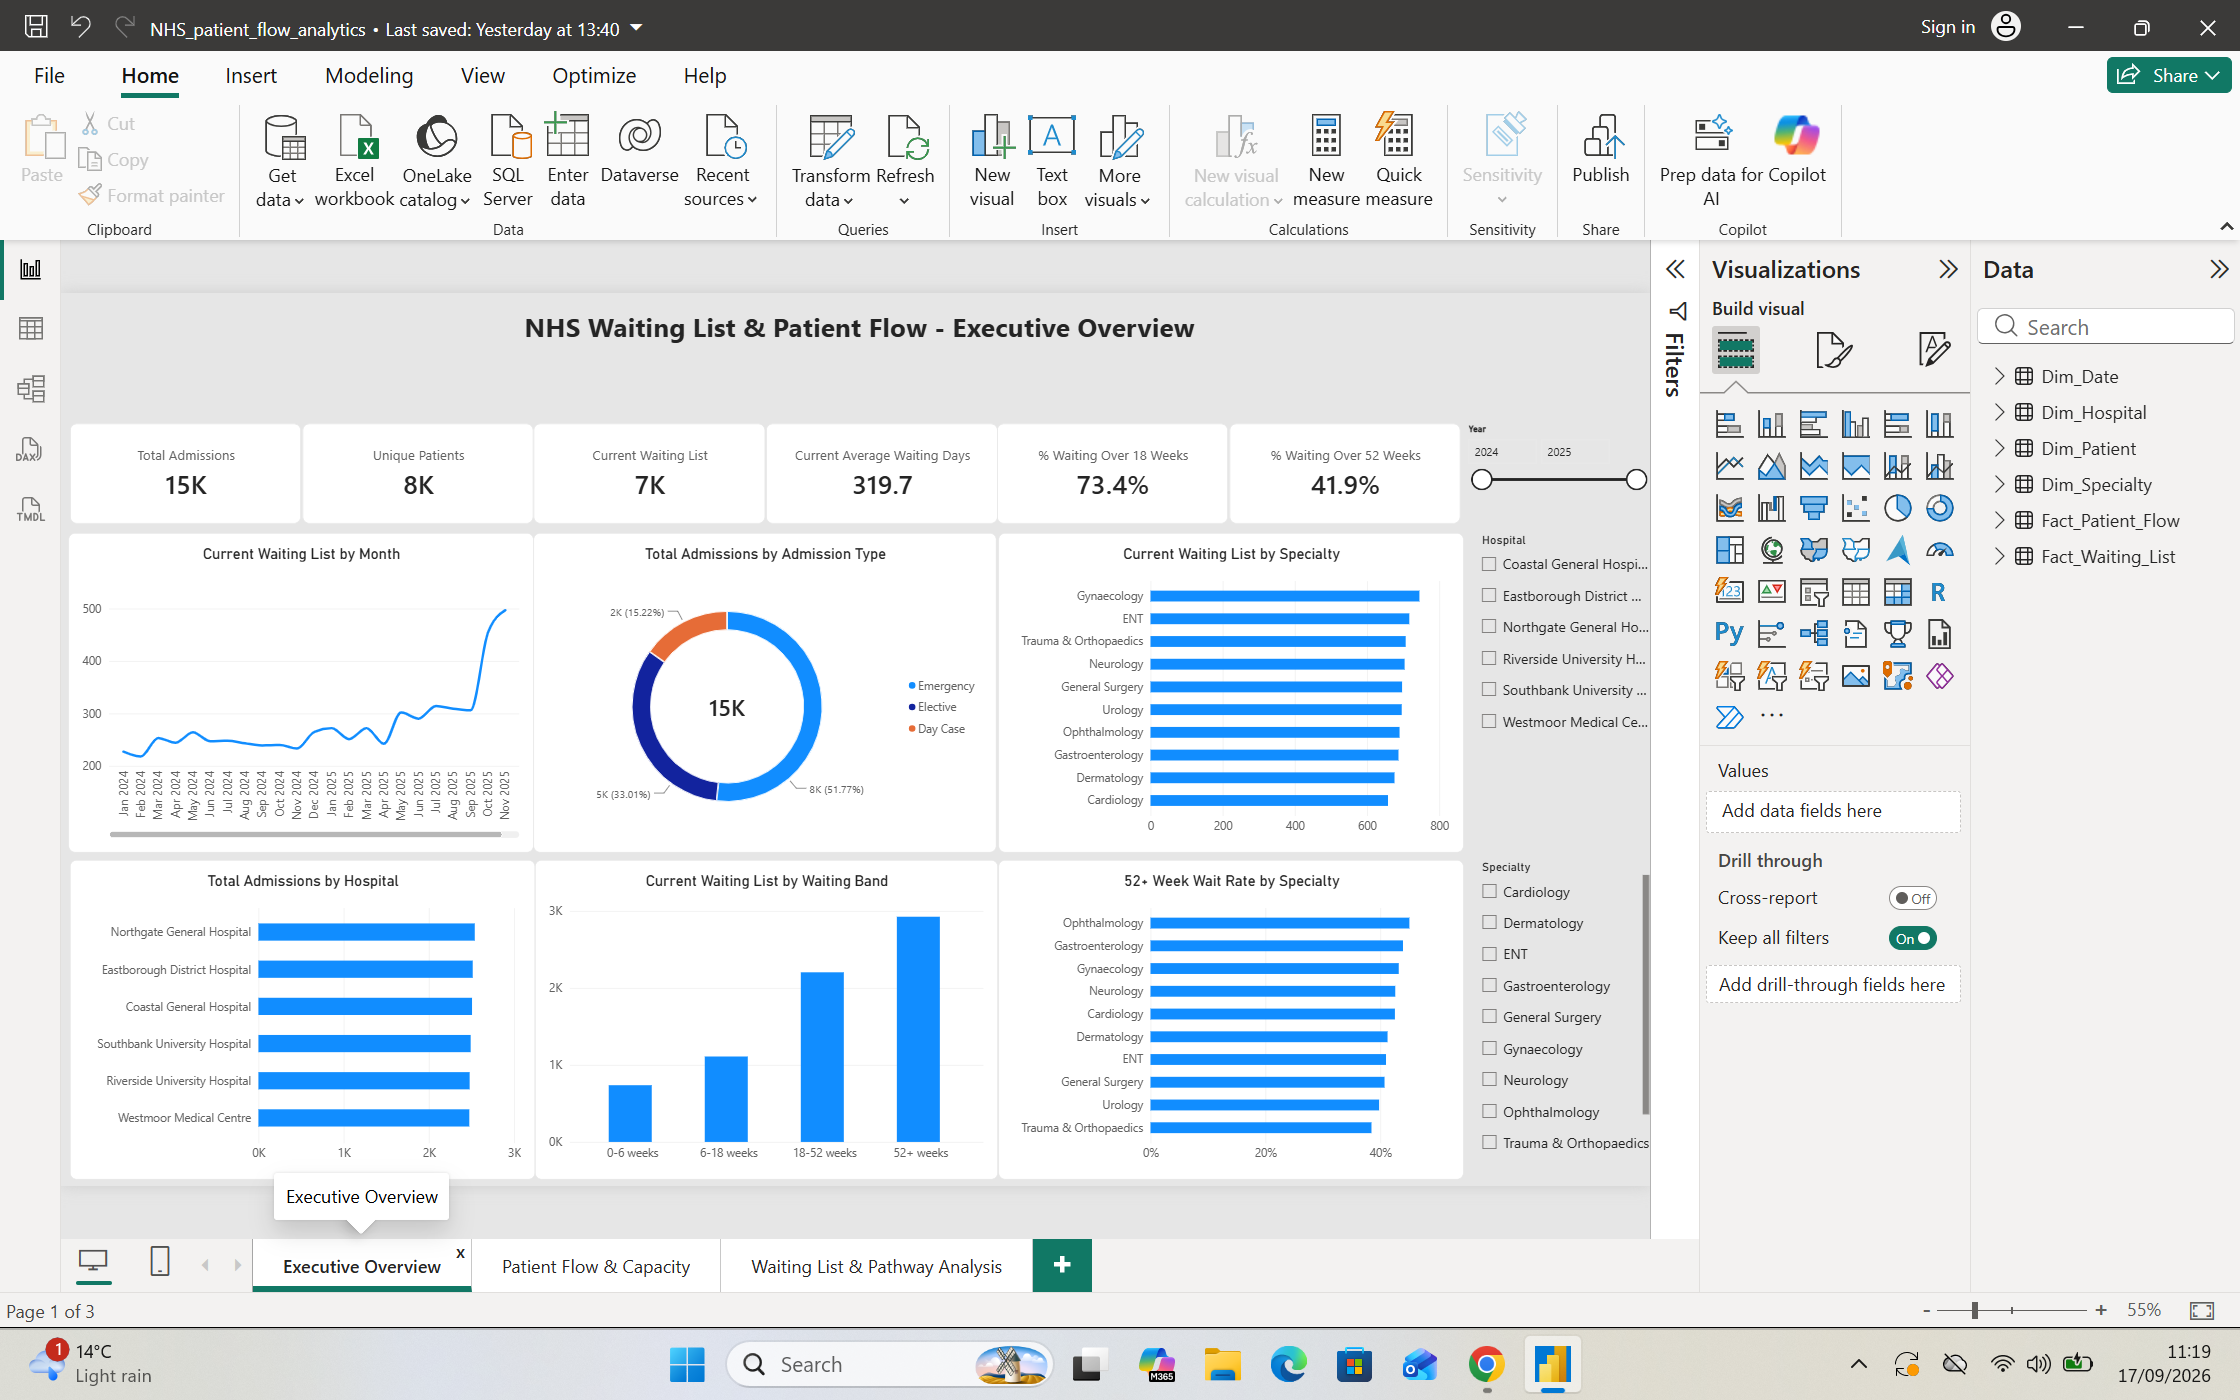

This screenshot's page, from the dashboard's own definition file:
{"tool":"powerbi","page":{"name":"Executive Overview","canvas":[1920,1080],"ordinal":0},"visuals":[{"type":"cardVisual","fields":{"Data":["Fact_Patient_Flow.Total Admissions"]},"box":[10.9,157.7,279.1,121.4],"z":0},{"type":"cardVisual","fields":{"Data":["Fact_Patient_Flow.Unique Patients"]},"box":[291.8,157.7,279.1,121.4],"z":1000},{"type":"cardVisual","fields":{"Data":["Fact_Waiting_List.Current Waiting List"]},"box":[570.9,157.7,280.9,121.4],"z":2000},{"type":"cardVisual","fields":{"Data":["Fact_Waiting_List.Current Average Waiting Days"]},"box":[851.9,157.7,280.9,121.4],"z":3000},{"type":"cardVisual","fields":{"Data":["Fact_Waiting_List.% Waiting Over 18 Weeks"]},"box":[1131,157.7,279.1,121.4],"z":4000},{"type":"cardVisual","fields":{"Data":["Fact_Waiting_List.% Waiting Over 52 Weeks"]},"box":[1411.9,157.7,279.1,121.4],"z":5000},{"type":"lineChart","title":"Current Waiting List by Month","fields":{"Category":["Dim_Date.Month_Year"],"Y":["Fact_Waiting_List.Current Waiting List"]},"box":[9.5,290.5,561.9,385.7],"z":6000},{"type":"donutChart","title":"Total Admissions by Admission Type","fields":{"Category":["Fact_Patient_Flow.Admission_Type"],"Y":["Fact_Patient_Flow.Total Admissions"]},"box":[571.4,290.5,559.5,385.7],"z":7000},{"type":"clusteredBarChart","title":"Current Waiting List by Specialty","fields":{"Category":["Dim_Specialty.Specialty_Name"],"Y":["Fact_Waiting_List.Current Waiting List"]},"box":[1133.3,290.5,561.9,385.7],"z":8000},{"type":"clusteredBarChart","title":"Total Admissions by Hospital","fields":{"Category":["Dim_Hospital.Hospital_Name"],"Y":["Fact_Patient_Flow.Total Admissions"]},"box":[10,686,562,386],"z":9000},{"type":"clusteredColumnChart","title":"Current Waiting List by Waiting Band","fields":{"Category":["Fact_Waiting_List.Waiting_Band"],"Y":["Fact_Waiting_List.Current Waiting List"]},"box":[572,686,559,386],"z":10000},{"type":"clusteredBarChart","title":"52+ Week Wait Rate by Specialty","fields":{"Category":["Dim_Specialty.Specialty_Name"],"Y":["Fact_Waiting_List.% Waiting Over 52 Weeks"]},"box":[1133,686,562,386],"z":11000},{"type":"slicer","fields":{"Values":["Dim_Hospital.Hospital_Name"]},"box":[1709.2,290,210.2,250.1],"z":12000},{"type":"slicer","fields":{"Values":["Dim_Specialty.Specialty_Name"]},"box":[1709.2,685.1,210.2,349.8],"z":13000},{"type":"slicer","fields":{"Values":["Dim_Date.Year"]},"box":[1692.8,157.7,226.6,121.4],"z":14000},{"type":"textbox","box":[10.9,0,1908.5,96.1],"z":14001}]}

Visuals, with their boxes on the page's 1920x1080 design canvas (x1, y1, x2, y2). These are canvas units, not pixel positions in the 2240x1400 screenshot, which may show the page scaled, cropped or inside an application window:
cardVisual - Fact_Patient_Flow.Total Admissions: x1=11 y1=158 x2=290 y2=279
cardVisual - Fact_Patient_Flow.Unique Patients: x1=292 y1=158 x2=571 y2=279
cardVisual - Fact_Waiting_List.Current Waiting List: x1=571 y1=158 x2=852 y2=279
cardVisual - Fact_Waiting_List.Current Average Waiting Days: x1=852 y1=158 x2=1133 y2=279
cardVisual - Fact_Waiting_List.% Waiting Over 18 Weeks: x1=1131 y1=158 x2=1410 y2=279
cardVisual - Fact_Waiting_List.% Waiting Over 52 Weeks: x1=1412 y1=158 x2=1691 y2=279
"Current Waiting List by Month" lineChart: x1=10 y1=290 x2=571 y2=676
"Total Admissions by Admission Type" donutChart: x1=571 y1=290 x2=1131 y2=676
"Current Waiting List by Specialty" clusteredBarChart: x1=1133 y1=290 x2=1695 y2=676
"Total Admissions by Hospital" clusteredBarChart: x1=10 y1=686 x2=572 y2=1072
"Current Waiting List by Waiting Band" clusteredColumnChart: x1=572 y1=686 x2=1131 y2=1072
"52+ Week Wait Rate by Specialty" clusteredBarChart: x1=1133 y1=686 x2=1695 y2=1072
slicer - Dim_Hospital.Hospital_Name: x1=1709 y1=290 x2=1919 y2=540
slicer - Dim_Specialty.Specialty_Name: x1=1709 y1=685 x2=1919 y2=1035
slicer - Dim_Date.Year: x1=1693 y1=158 x2=1919 y2=279
textbox: x1=11 y1=0 x2=1919 y2=96
